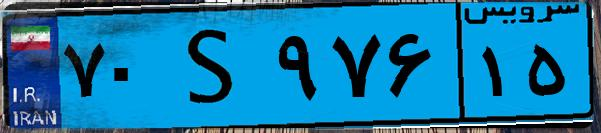0: (110, 28, 158, 98)
1: (475, 38, 525, 113)
5: (525, 38, 570, 115)
6: (385, 28, 445, 110)
7: (330, 28, 385, 110), (57, 26, 110, 100)
9: (270, 28, 330, 110)
S: (158, 12, 270, 120)
